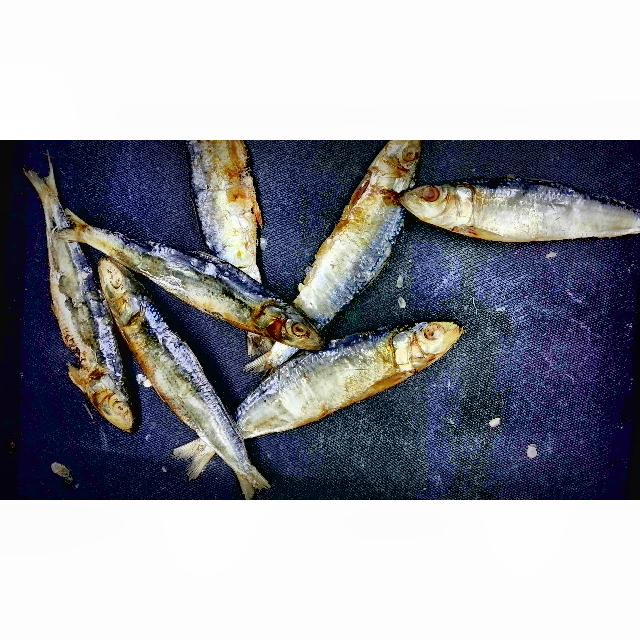Grade_C_Body: (134, 243, 269, 323), (121, 329, 234, 421), (309, 199, 404, 302), (477, 176, 594, 248), (177, 148, 276, 233), (277, 352, 375, 426)
Grade_C_Head: (387, 320, 466, 381), (83, 384, 153, 442), (276, 288, 333, 356), (399, 185, 474, 235), (86, 256, 143, 317)
